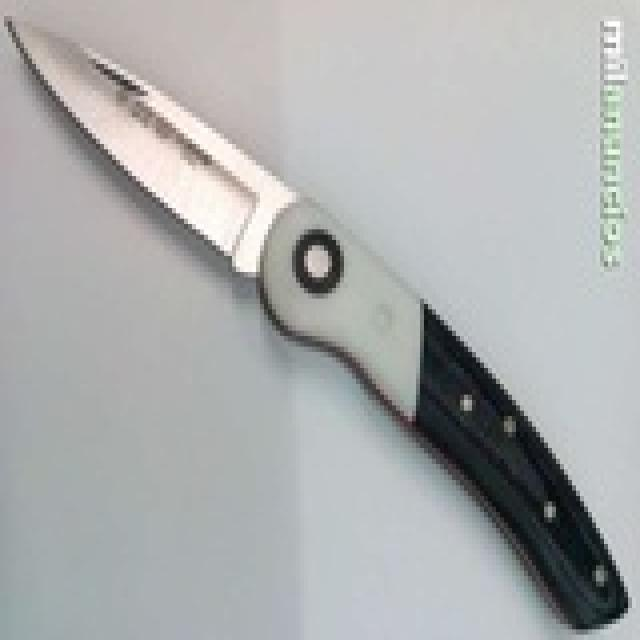Knife: (5, 13, 605, 610)
